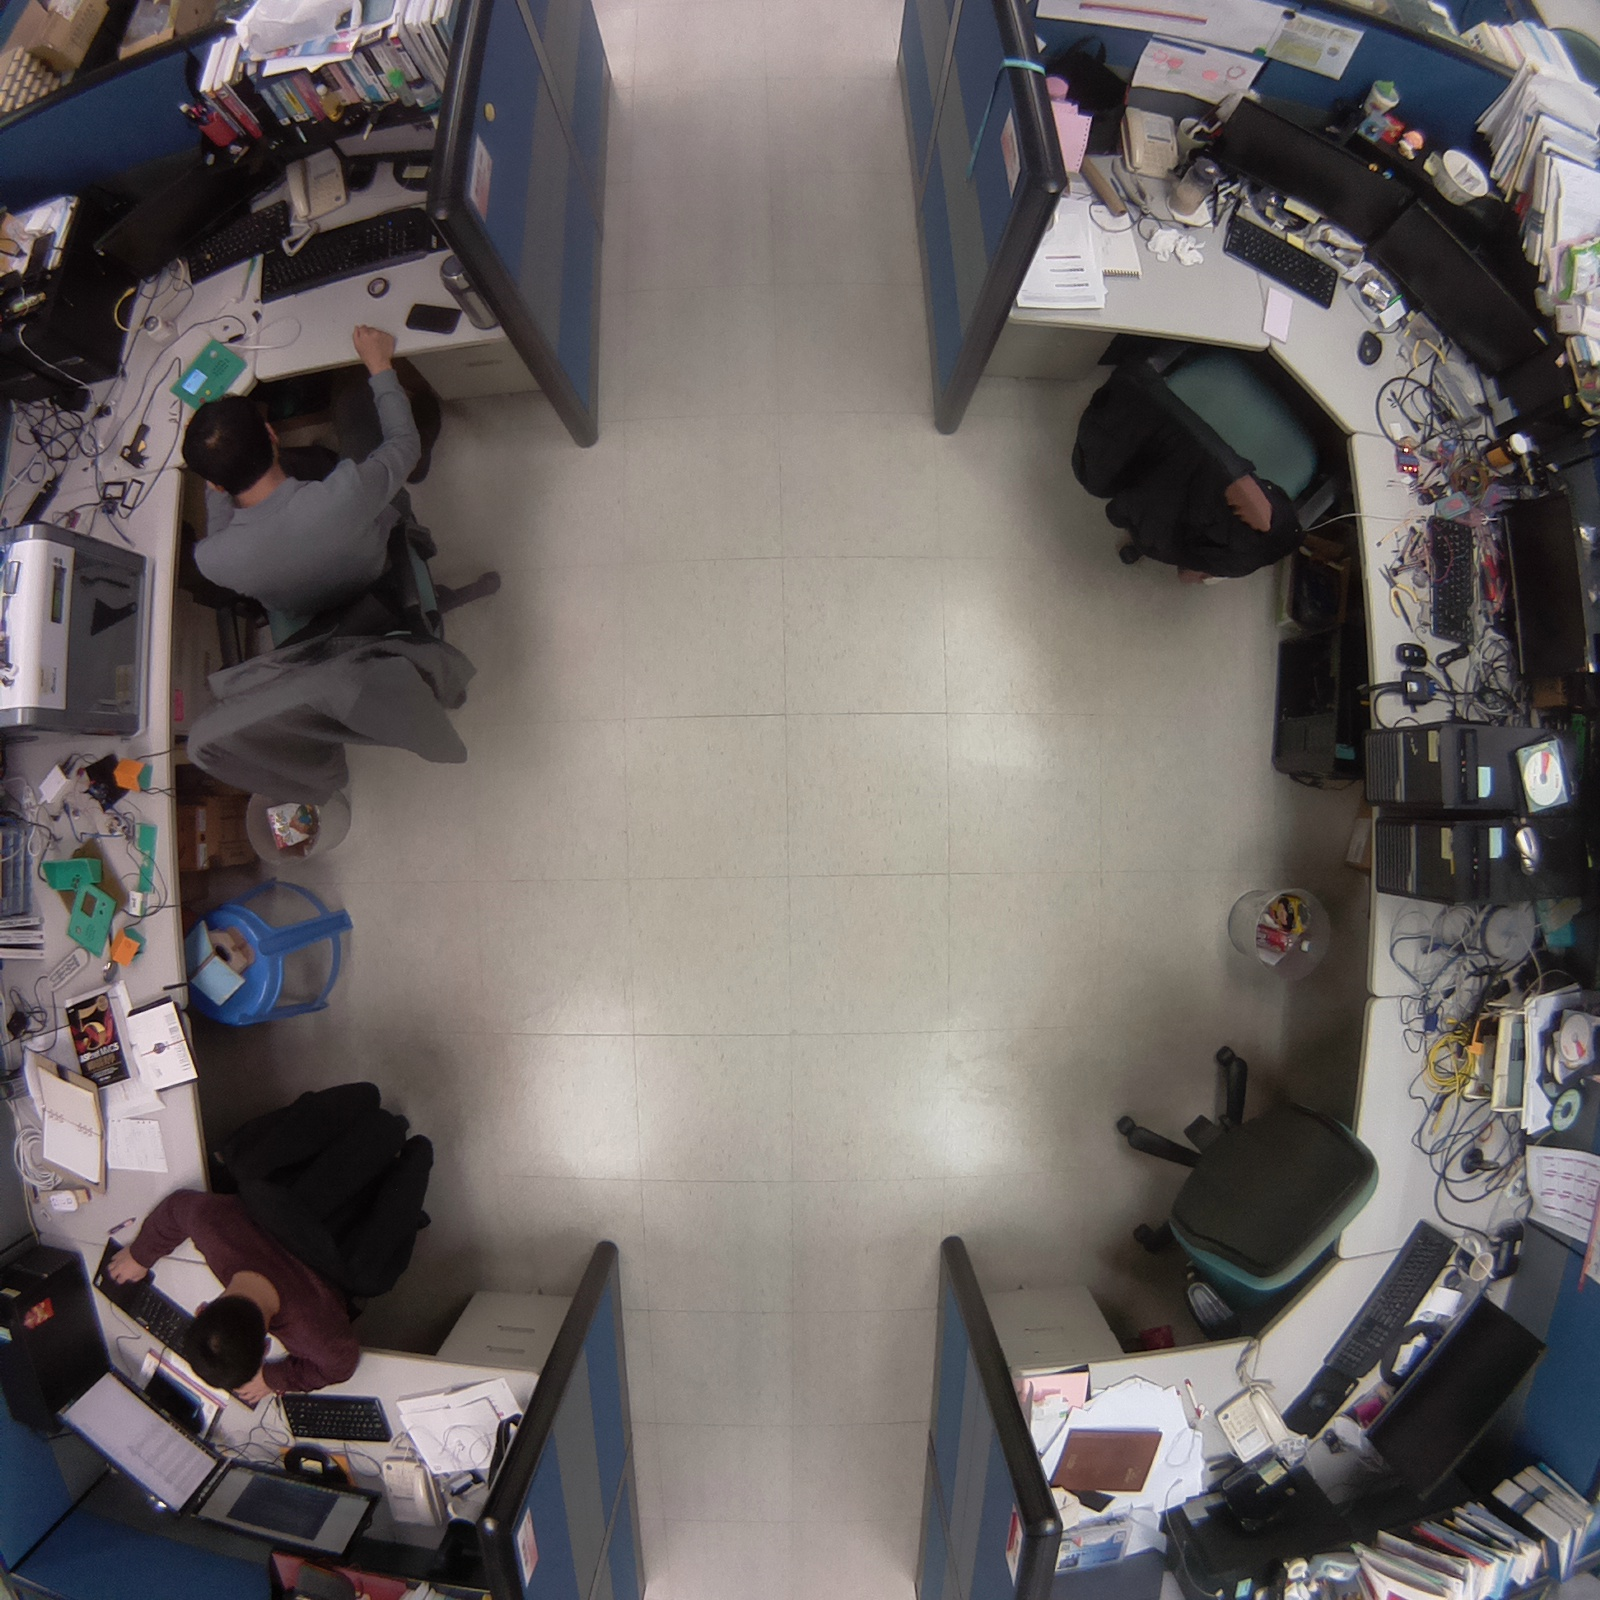chair: (1096, 1032, 1401, 1347), (1047, 322, 1360, 606)
head: (172, 389, 285, 497), (180, 1287, 274, 1400)
sitting: (170, 318, 529, 819), (101, 1058, 458, 1411)
